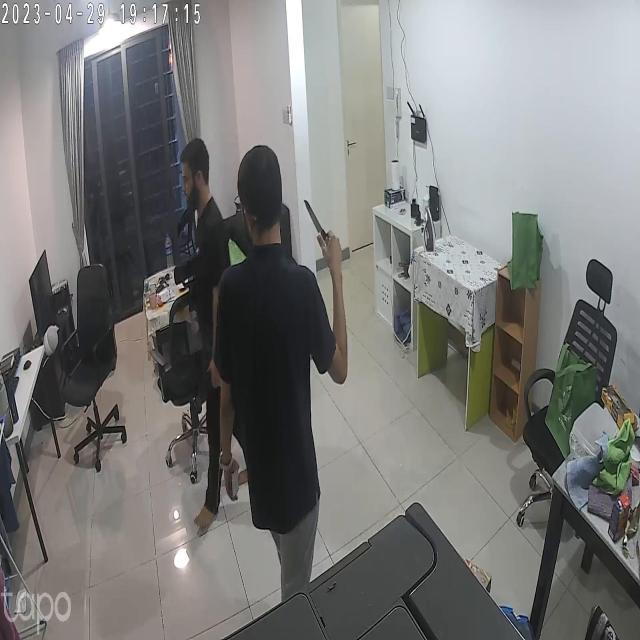Knife: (299, 197, 351, 261)
